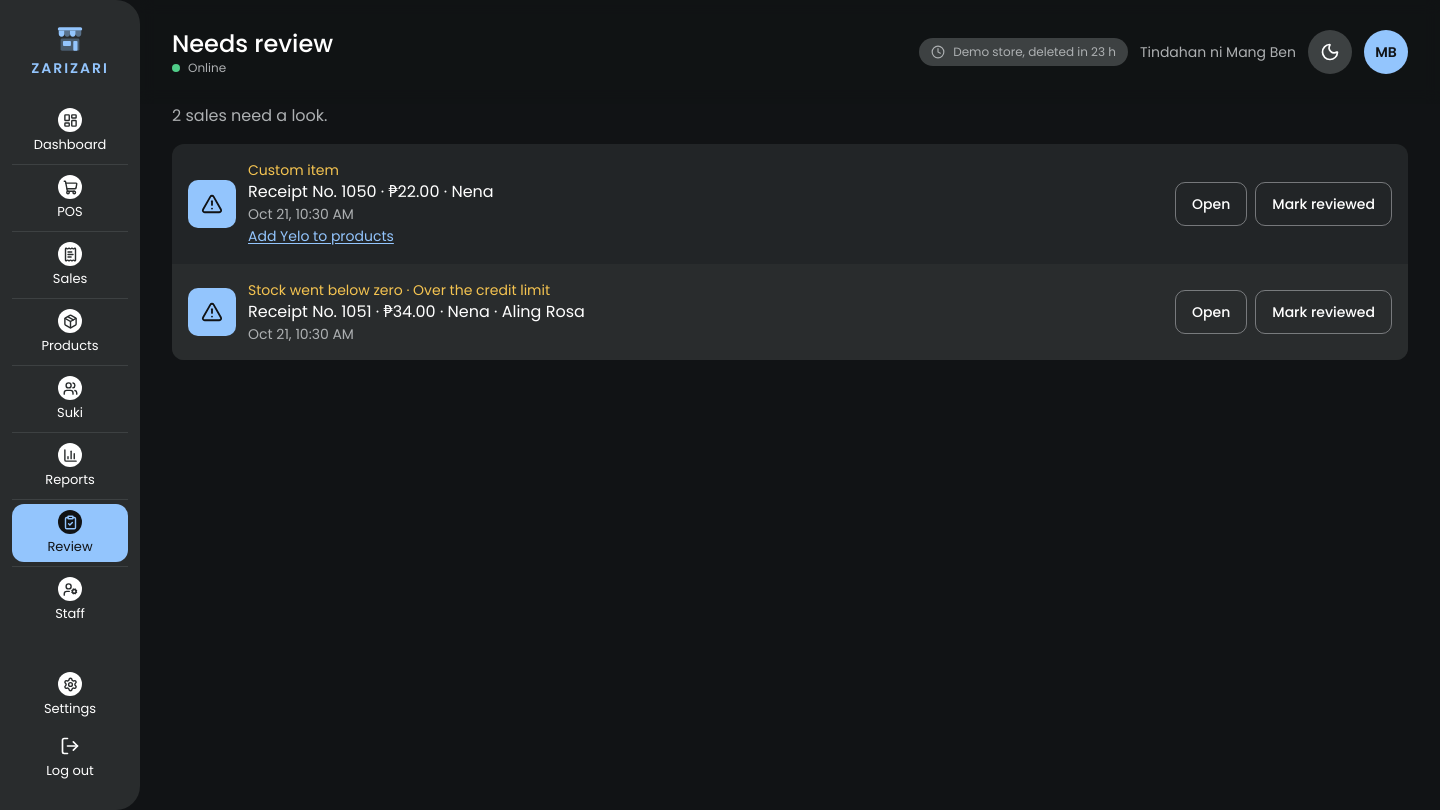
Test: needs review (reference: Notification) › lists flagged sales; a sale opens with its receipt, and a custom item can become a product
This screenshot has width=1440, height=810.
Expected: the list item that starts with "Custom item" is shown, [248,160,339,180]
Expected: the text "Over the credit limit" is shown, [248,280,550,300]
Click the button with aria-label "Open sale No. 1050" at (1211, 204), box [1175,182,1247,226]
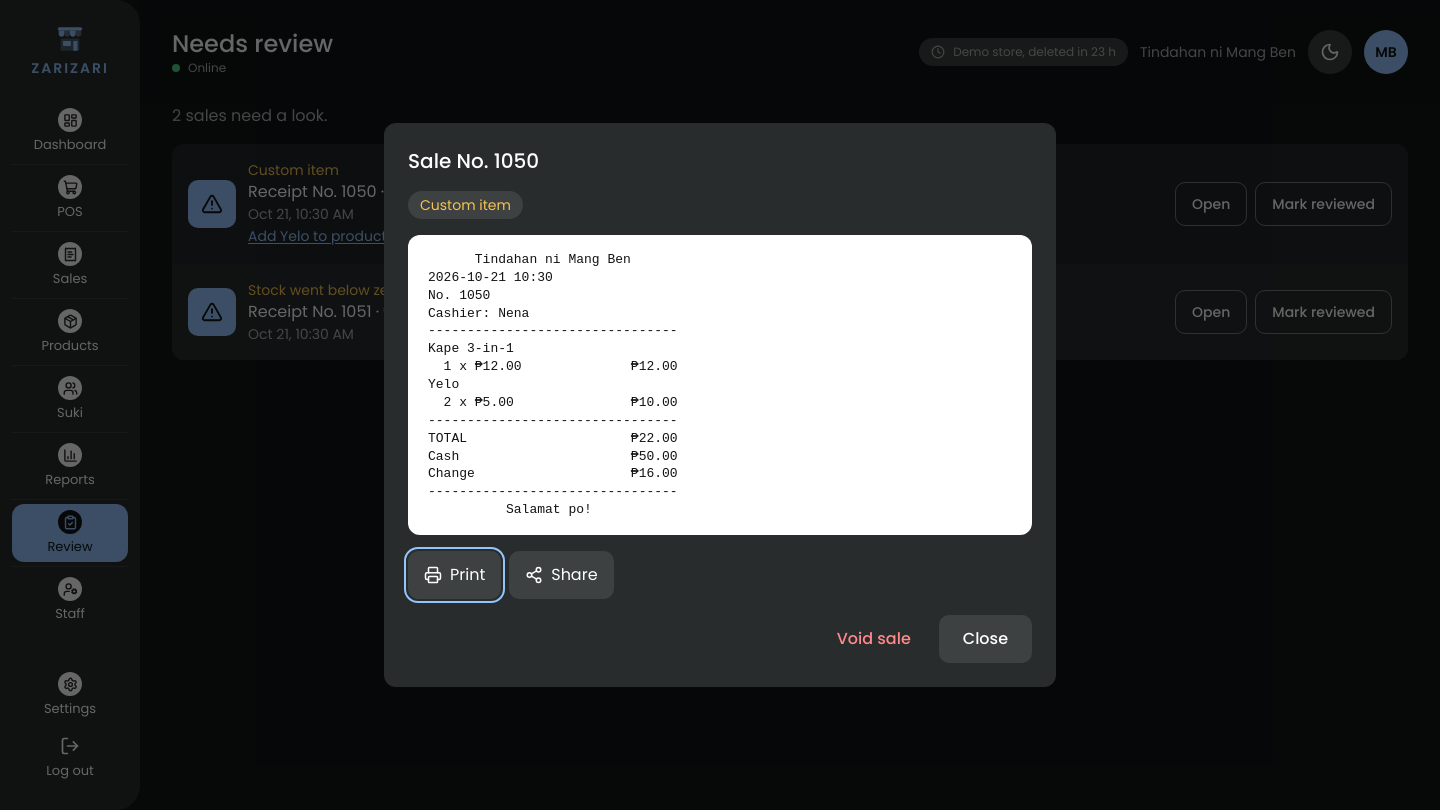
Result: the dialog "Sale No. 1050" shows "Yelo" at [428,252,678,517]
Click the button "Close" at (985, 639), box [939,615,1032,663]
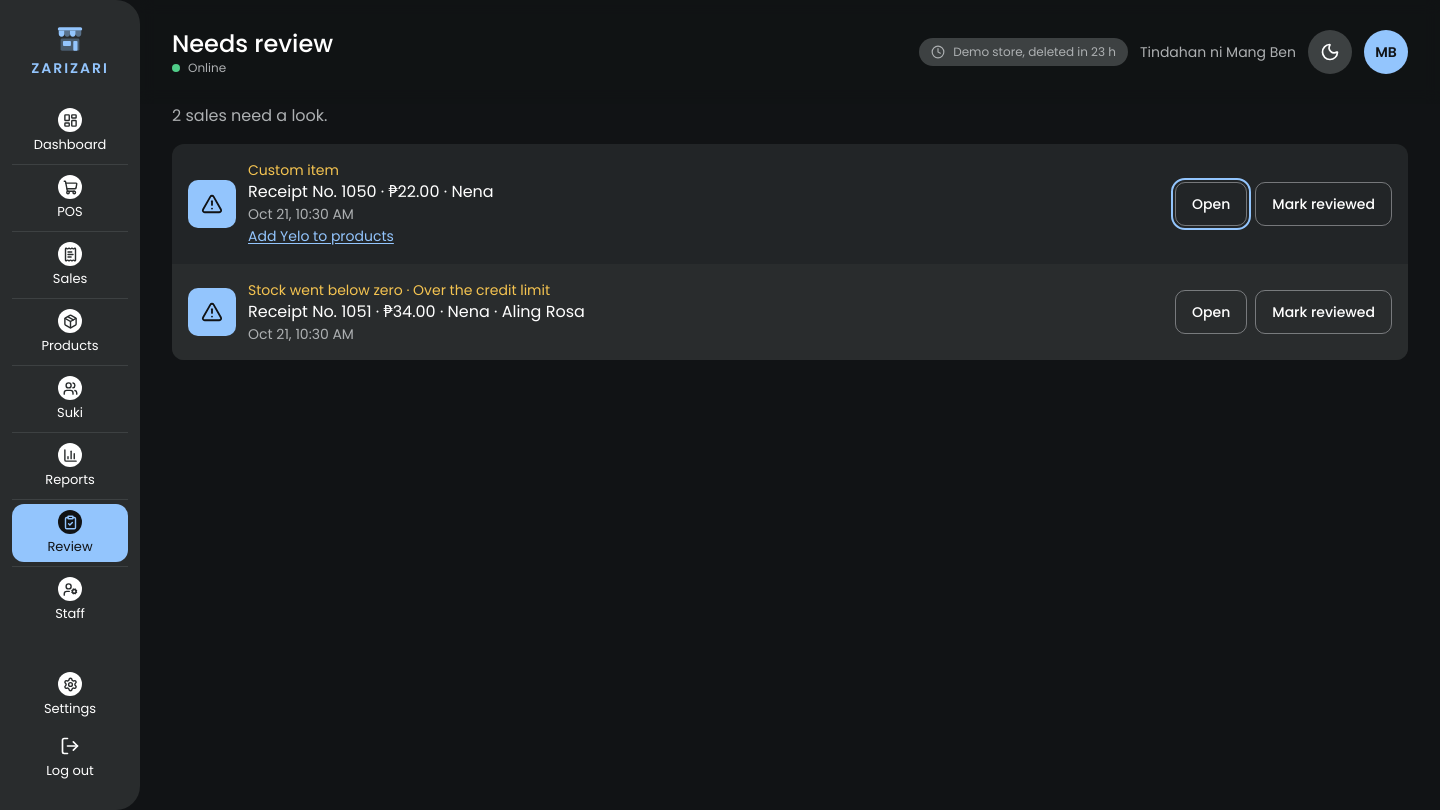
Click the link "Add Yelo to products" at (321, 236), box [248,226,394,246]
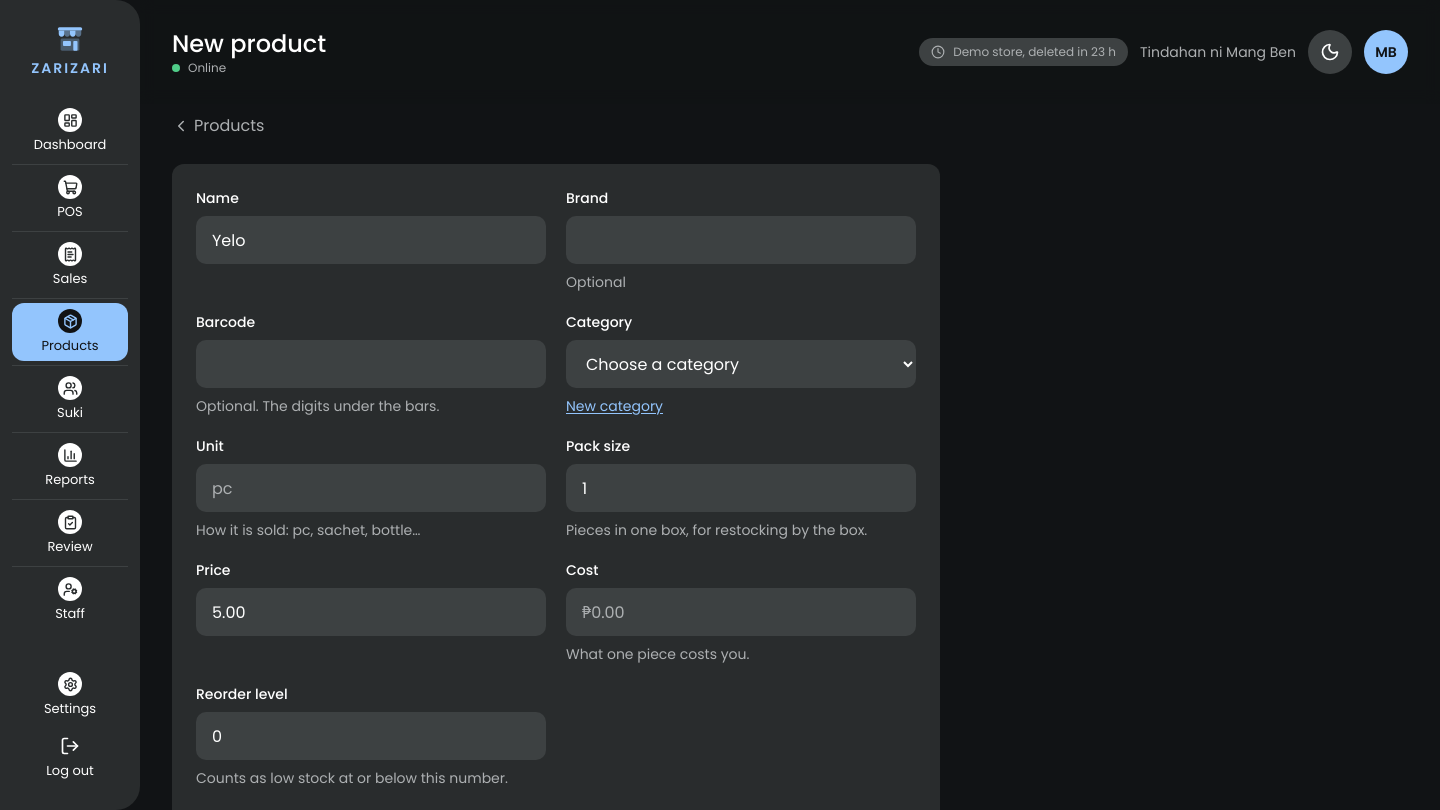
Result: the field labelled "Name" holds "Yelo" at [196,216,546,264]
Result: the field labelled "Price" holds "5.00" at [196,588,546,636]
